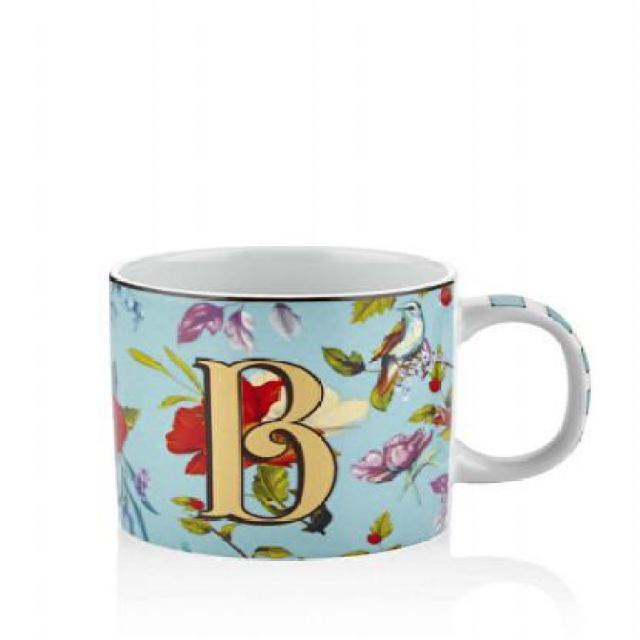taza: (107, 243, 595, 568)
